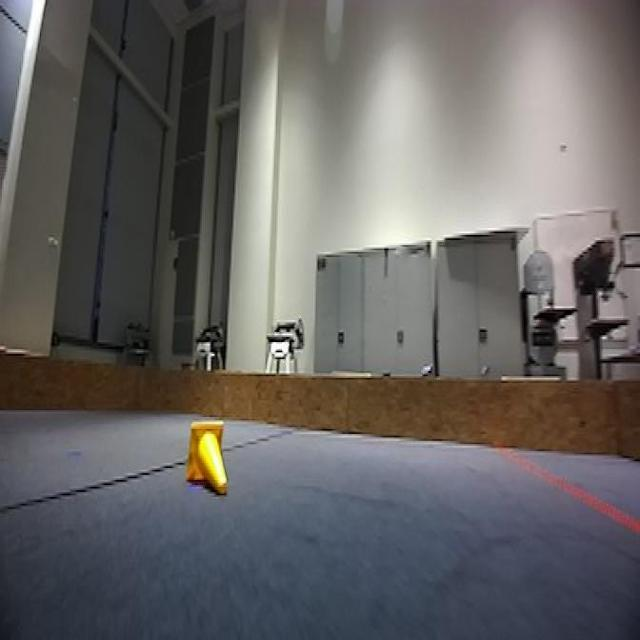frc_cone: (181, 415, 235, 502)
